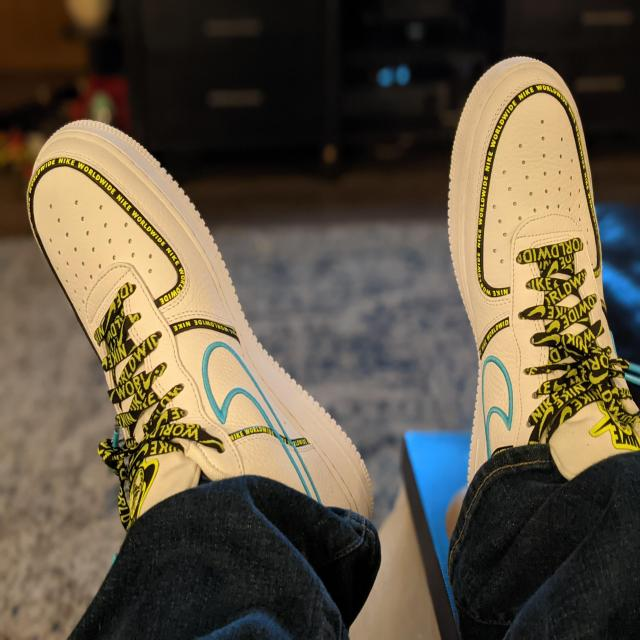shoes: (0, 87, 389, 640), (432, 25, 640, 580)
